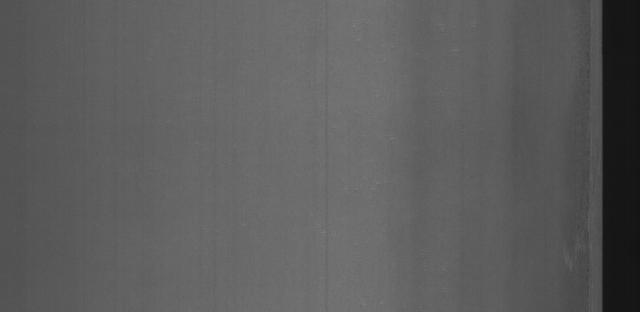silk_spot: (564, 81, 598, 276)
